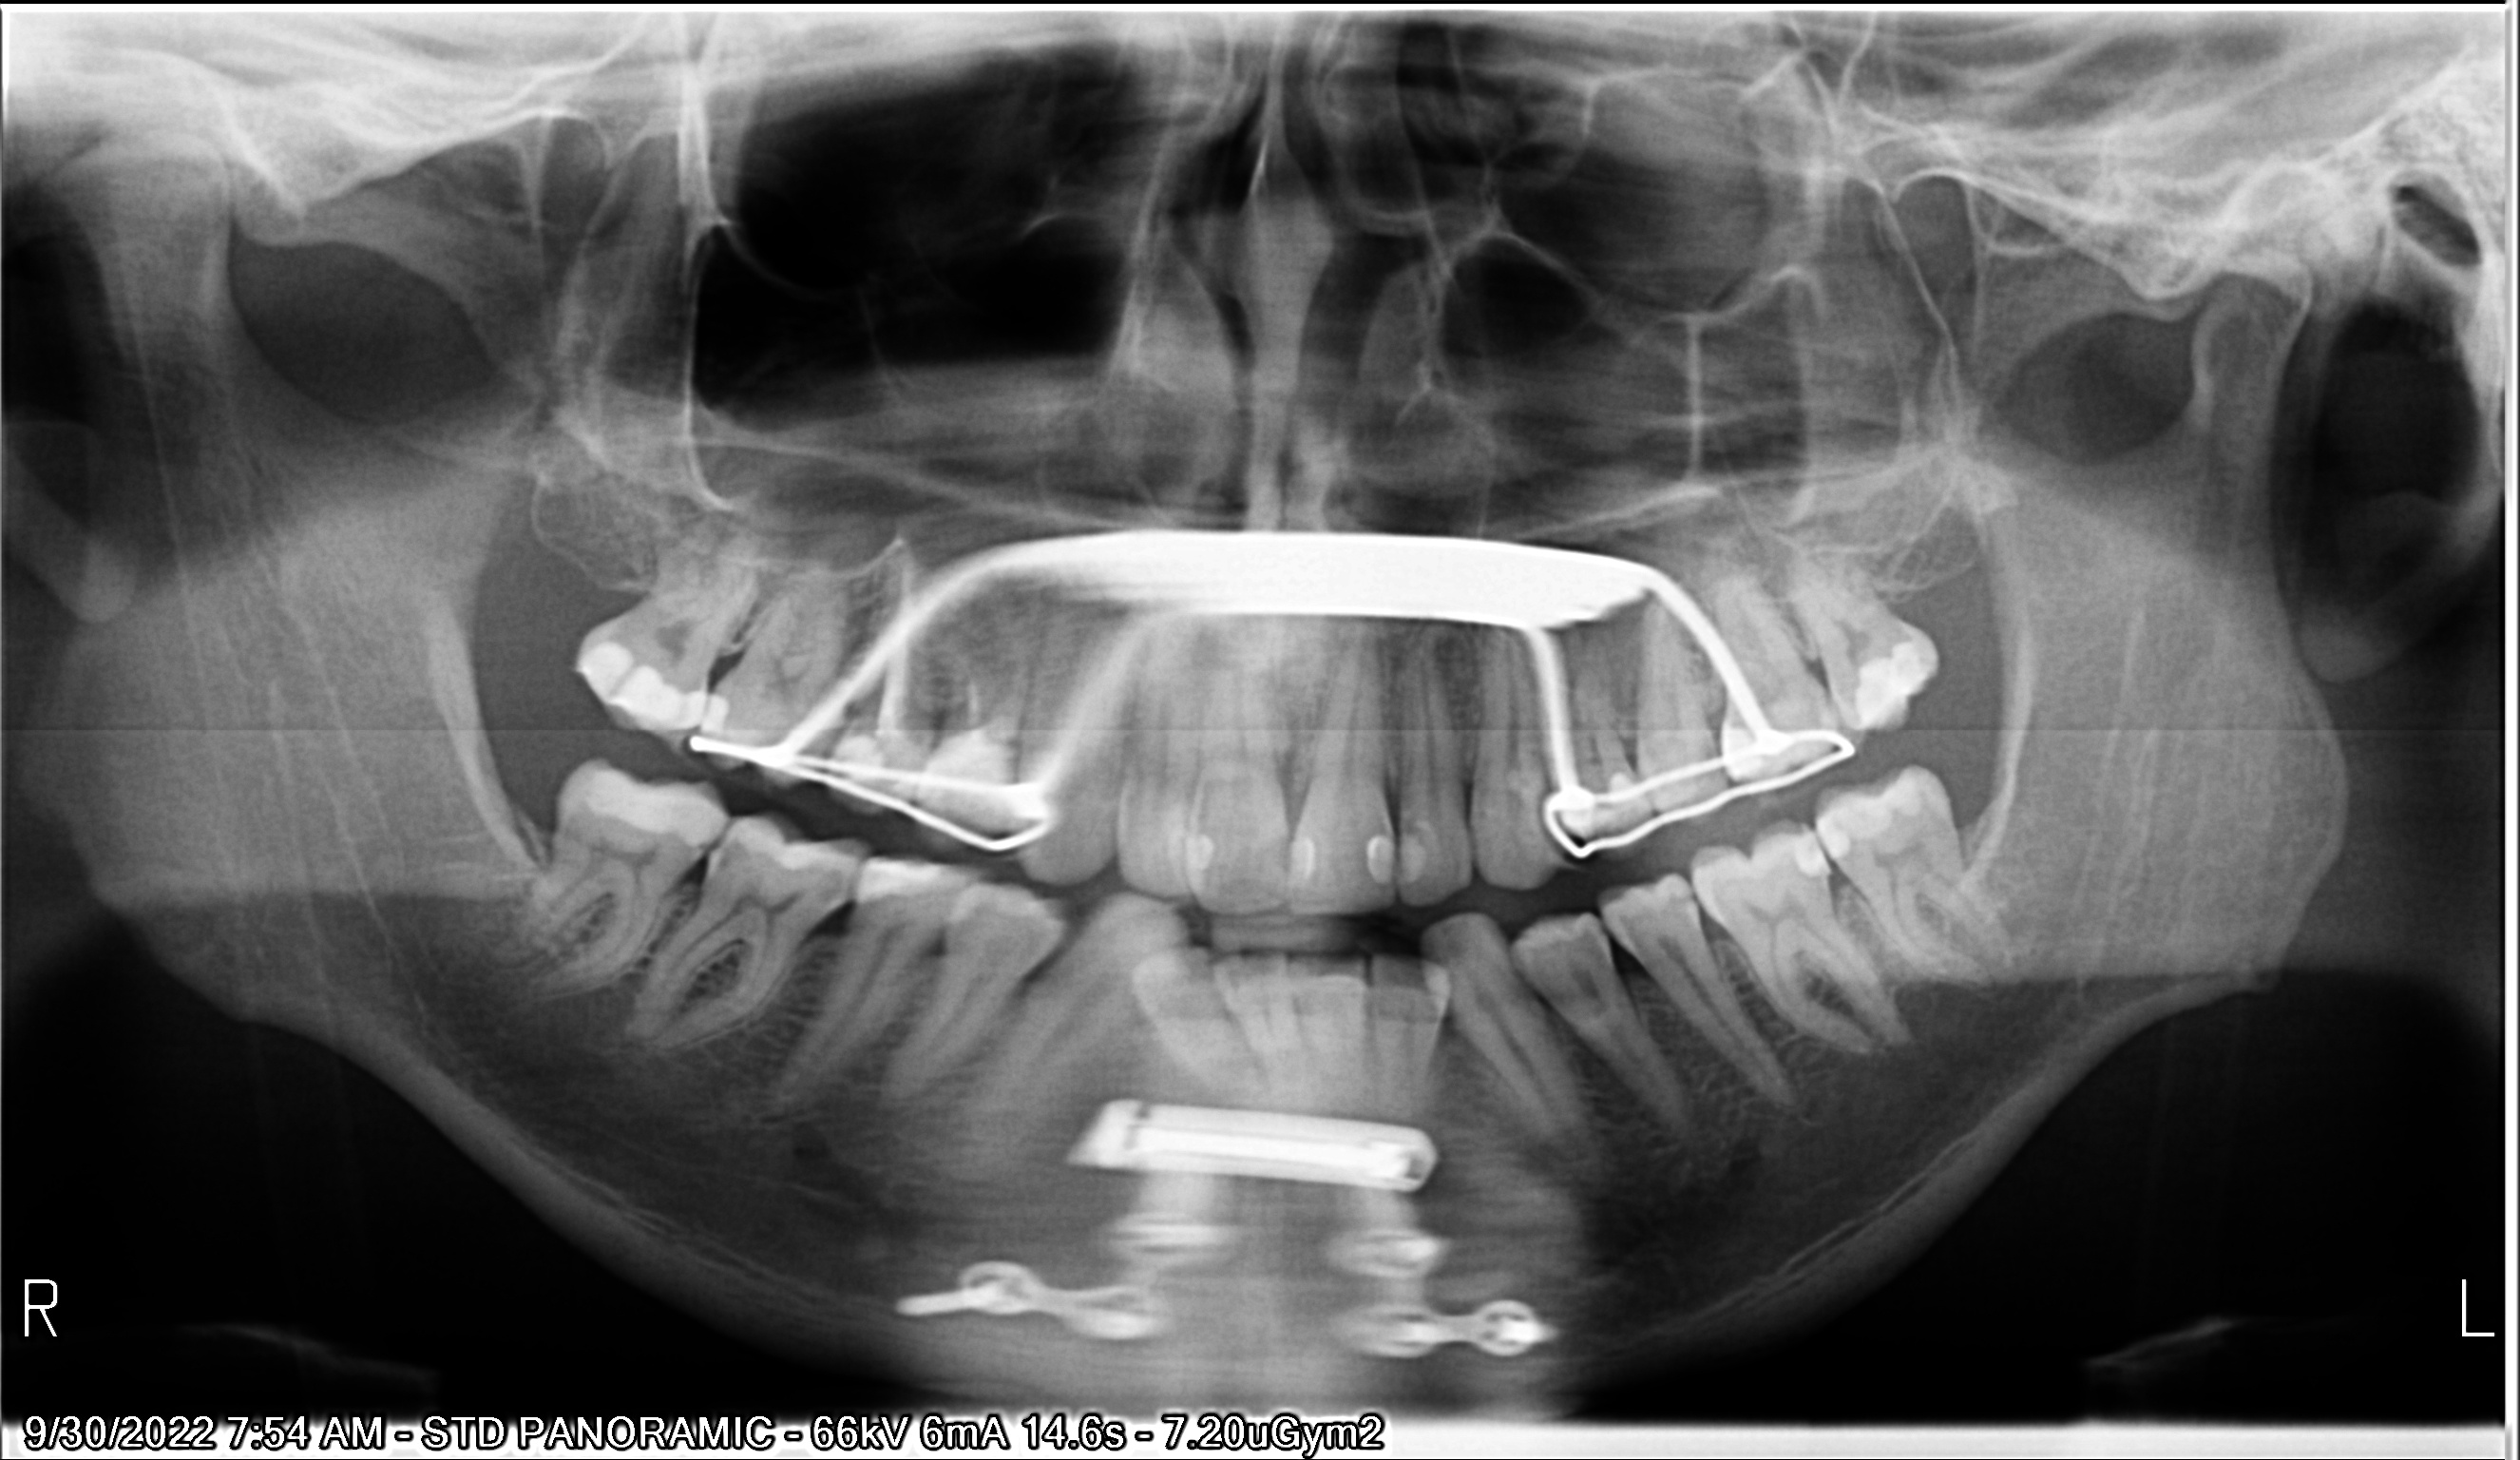CAR: (794, 853, 860, 930), (1256, 800, 1304, 892), (1646, 869, 1714, 928), (693, 833, 762, 883)
OBT: (549, 629, 712, 744), (1817, 756, 1969, 864), (1839, 600, 1938, 740), (841, 843, 990, 932), (563, 770, 729, 839), (1172, 817, 1240, 911), (1271, 817, 1329, 923), (1339, 810, 1400, 902), (1395, 806, 1443, 883), (1765, 834, 1837, 883), (689, 693, 764, 740)
ORD: (672, 474, 1884, 860)
SRD: (889, 1072, 1259, 1370), (1301, 1098, 1582, 1417), (1040, 1027, 1473, 1211)
